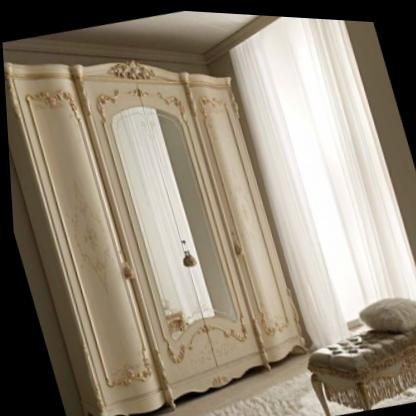Closet: (3, 60, 307, 416)
Curtains: (230, 13, 416, 344)
